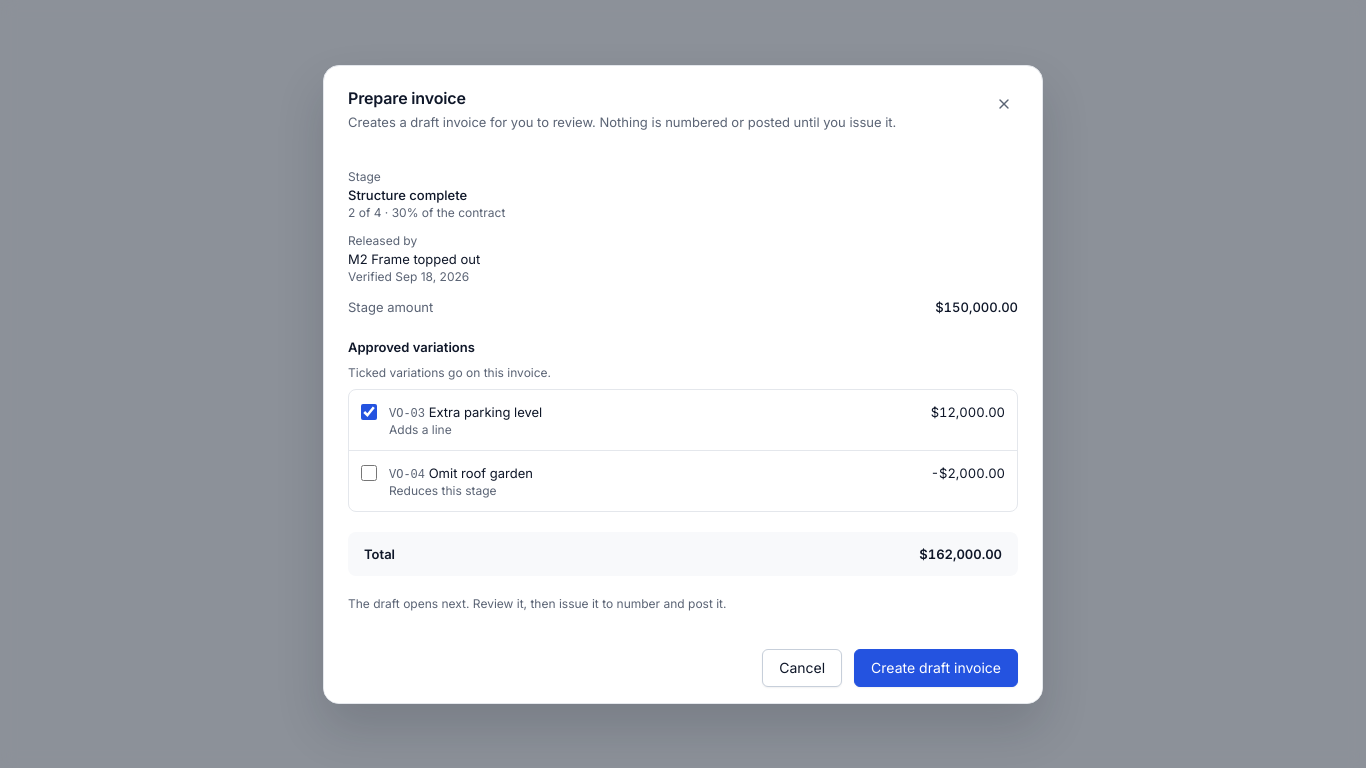
Test: PrepareInvoiceDialog — creates a draft from the server preview › variation toggles change the total
Expected: the element with test id "prepare-total" reads "$162,000.00", [919,546,1002,562]
Click the checkbox labelled "VO-03 Extra parking level Adds a line $12,000.00".
click(369, 412)  # box [361,404,377,420]
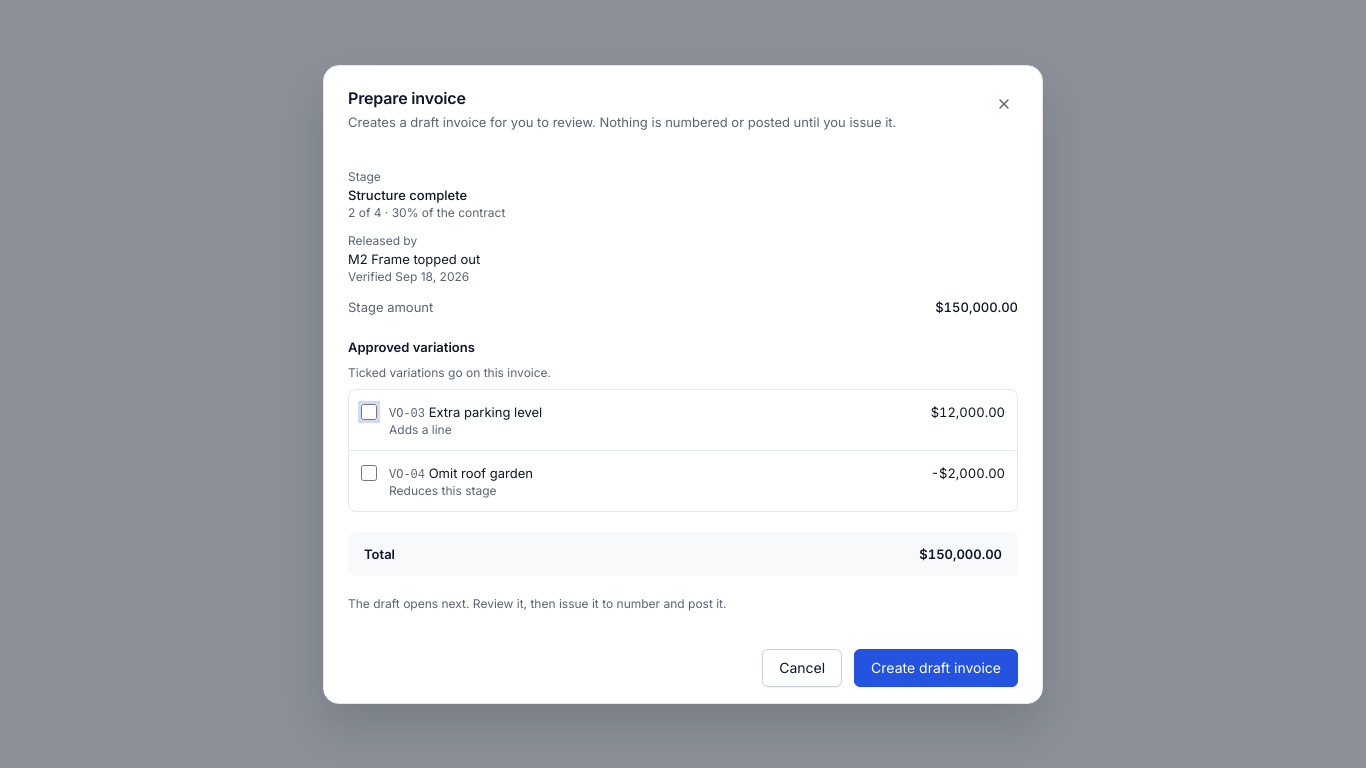
Now the element with test id "prepare-total" reads "$150,000.00", box [919,546,1002,562]
Click the checkbox labelled "VO-04 Omit roof garden Reduces this stage -$2,000.00".
click(369, 472)  # box [361,464,377,480]
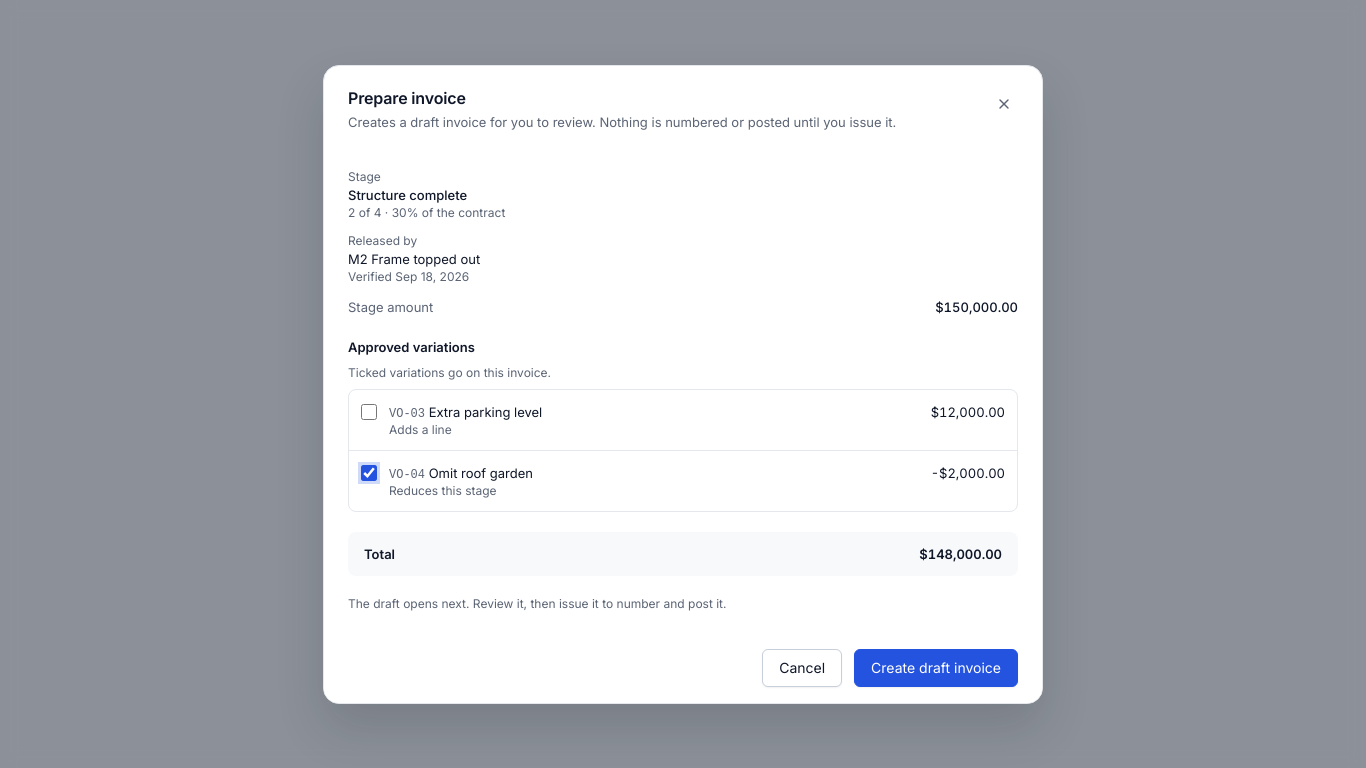
Expected: the text "Reduces this stage" is shown, [389,482,497,498]
Now the element with test id "prepare-total" reads "$148,000.00", box [919,546,1002,562]
